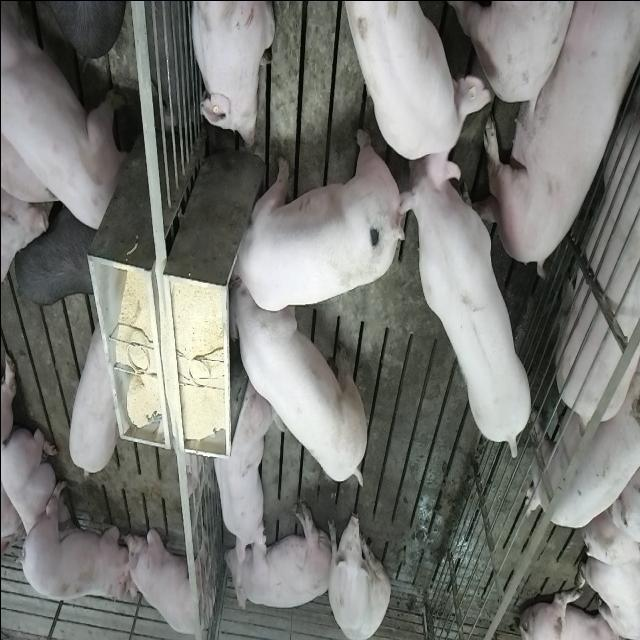Feeding: (222, 126, 396, 312), (230, 279, 372, 493)
Lateral_lying: (480, 0, 637, 274), (222, 501, 332, 614)
Sitting: (128, 513, 218, 640), (324, 503, 390, 638)
Standing: (394, 142, 531, 458), (552, 30, 640, 432), (1, 4, 124, 237), (345, 0, 493, 168), (528, 368, 640, 534), (21, 480, 132, 606), (14, 199, 96, 308), (63, 319, 117, 482)
Sternal_lying: (186, 0, 274, 150), (208, 381, 280, 564), (1, 428, 61, 556)
